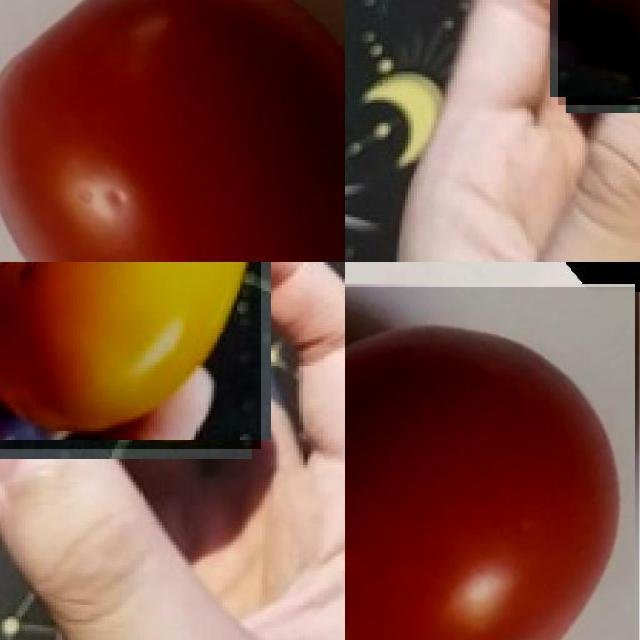Fresh Tomato: (345, 287, 639, 640), (0, 0, 345, 262)
Rotten Tomato: (0, 262, 261, 449)
